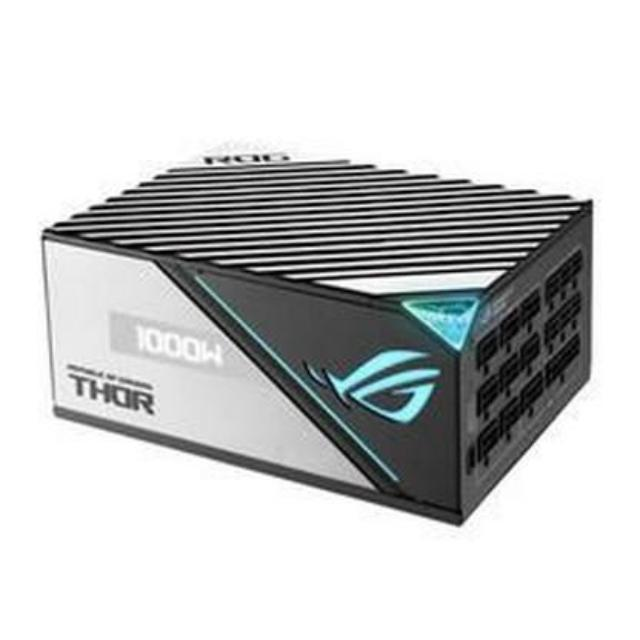PSU: (27, 127, 610, 533)
